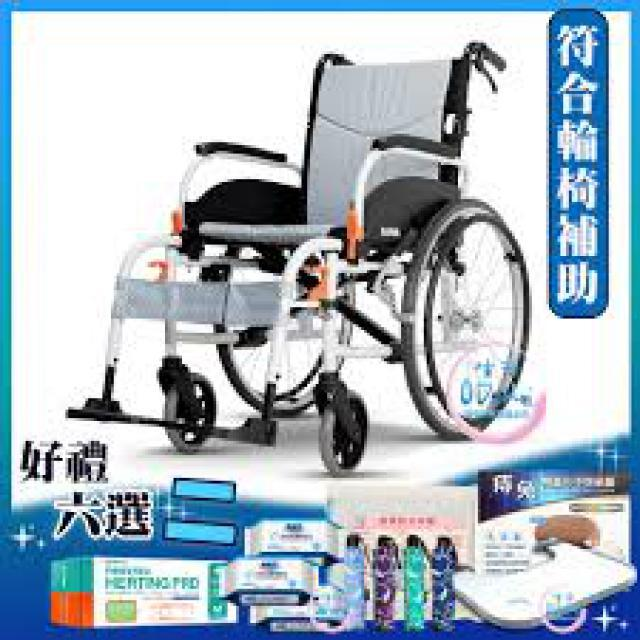wheelchair: (34, 34, 532, 447)
